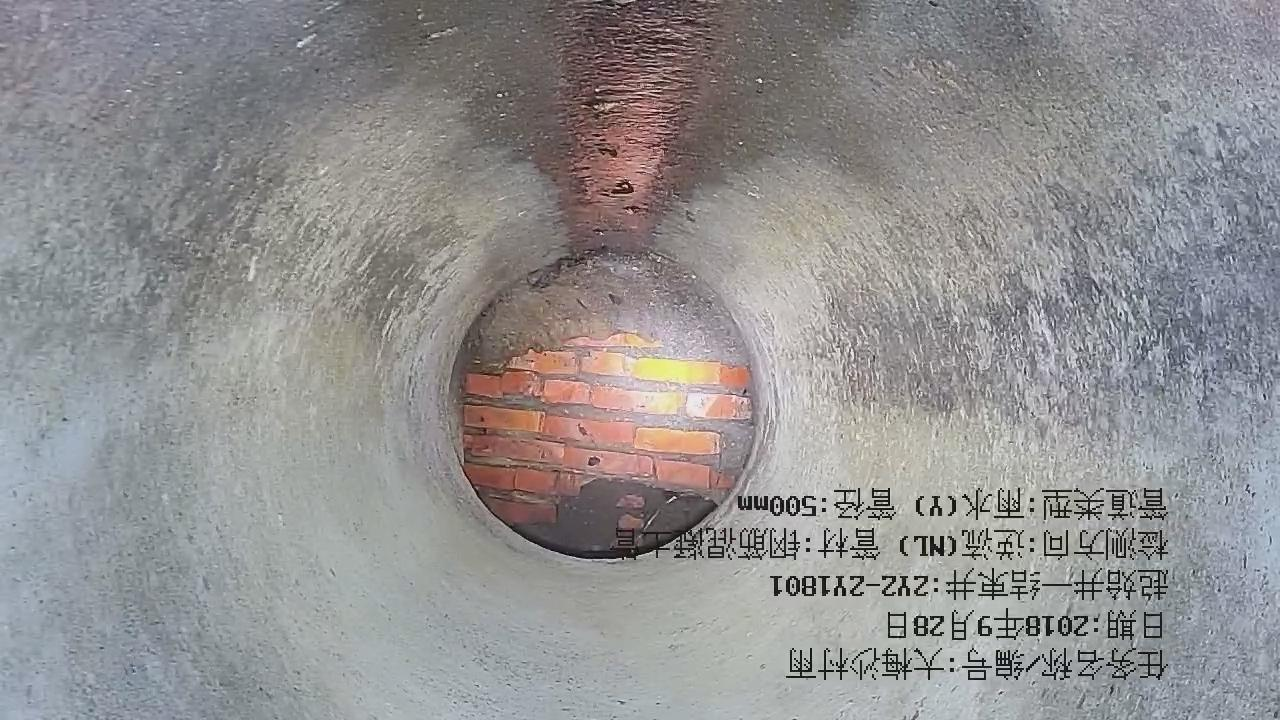CQBG: (448, 254, 753, 525)
